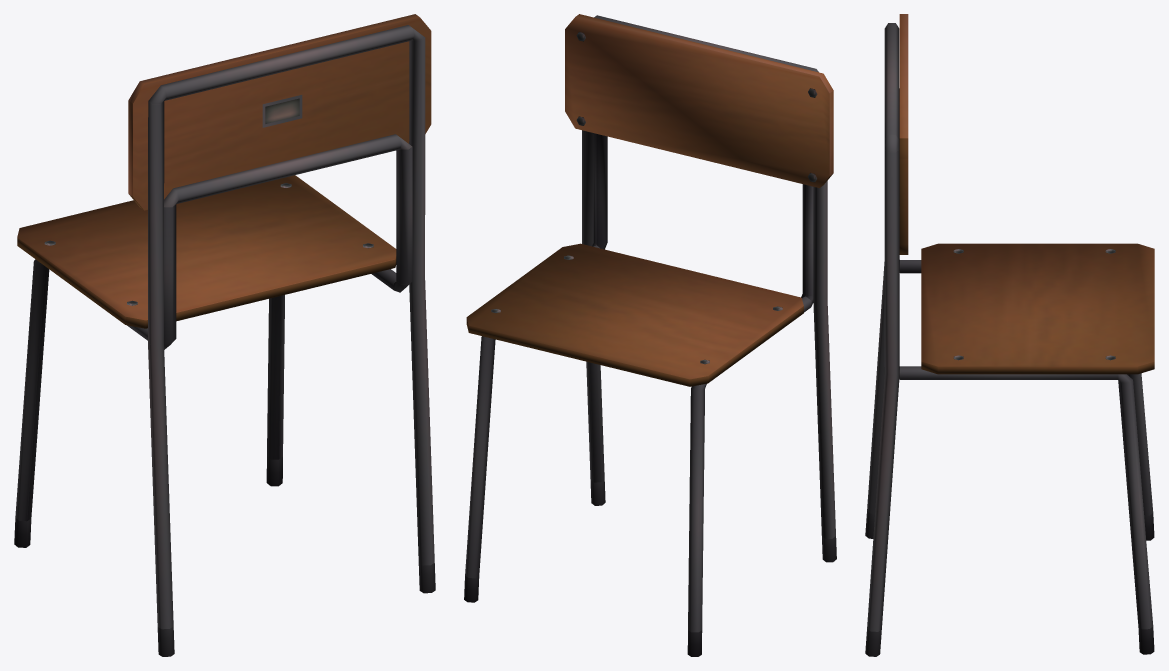
File: chair_type00_eve.FBX
3 renders of one model, left to right at view 1: azimuth 30°, elevation 25°; view 2: azimuth 150°, elevation 25°; view 3: azimuth 270°, elevation 25°, orthographic. The views are drawn at different scales.
Parts seen in each view (by area): view 1: crm_chairA000_eve; view 2: crm_chairA000_eve; view 3: crm_chairA000_eve.
Boxes of the visible parts, x1,y1,x2,y2 form: crm_chairA000_eve: (14,14,435,656); crm_chairA000_eve: (464,14,836,656); crm_chairA000_eve: (865,14,1154,656).
Bounding box in the file's own units: 50.77 × 91.22 × 46.09.
